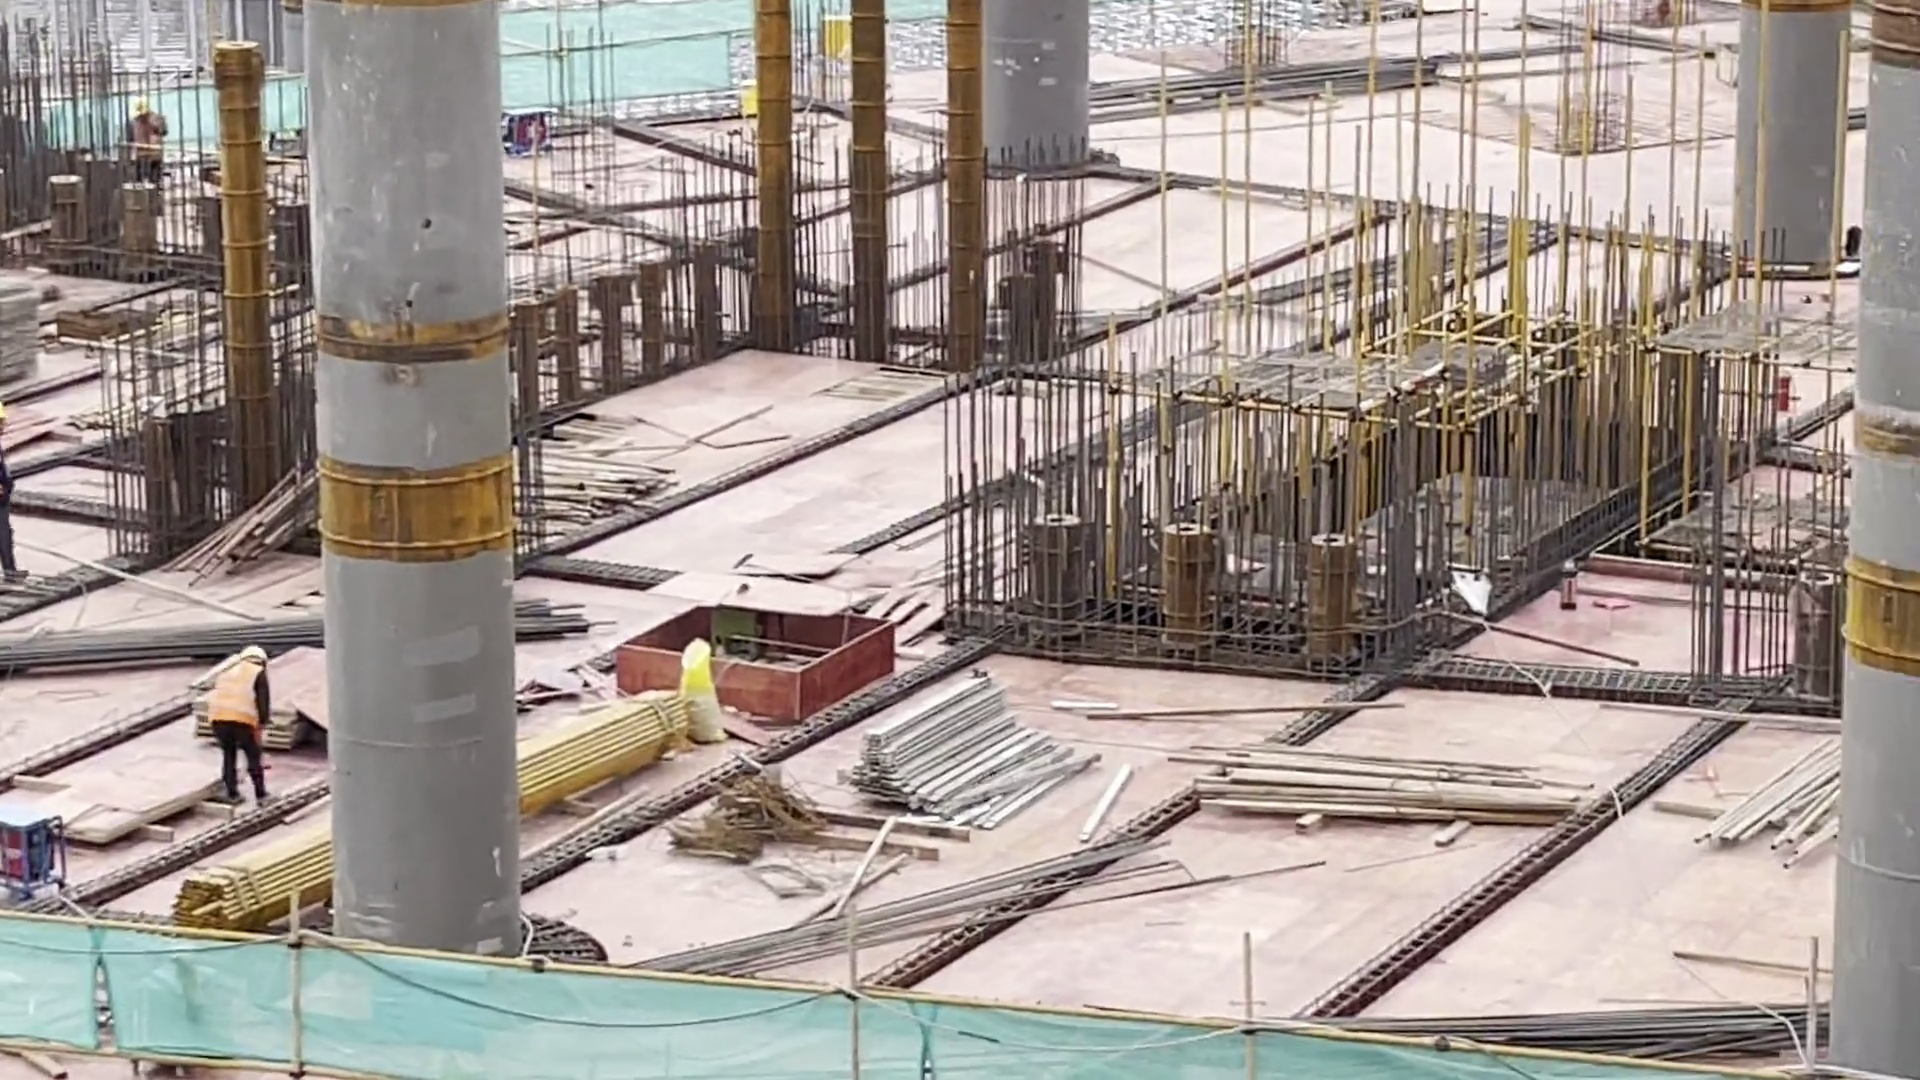person: (204, 634, 275, 806)
vest: (207, 661, 267, 728)
wood: (1169, 737, 1591, 845)
